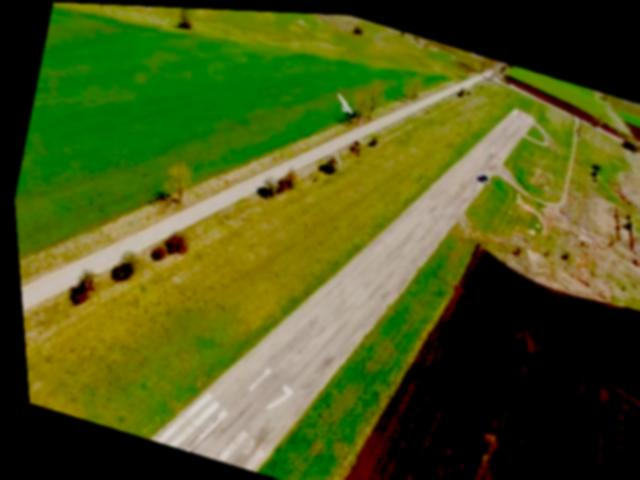uav: (326, 82, 361, 119)
